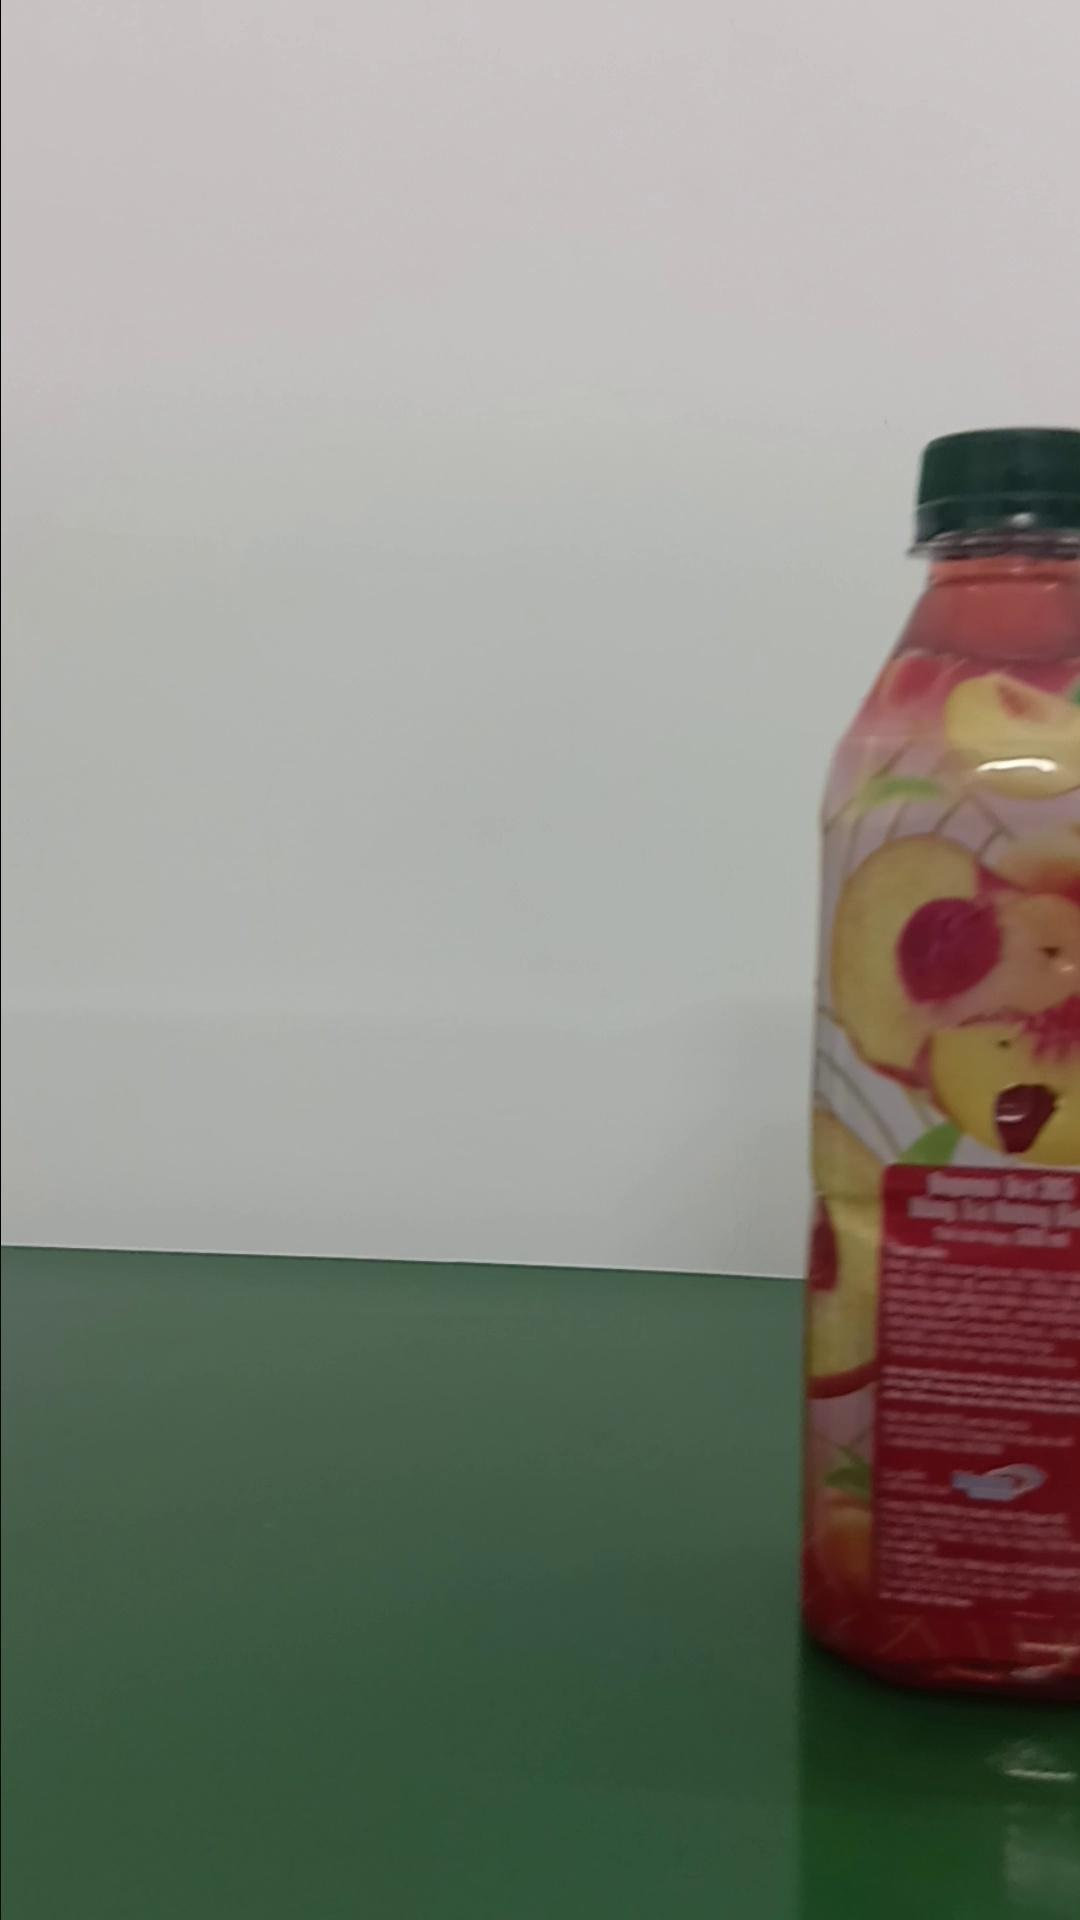loi rach va lap chai: (793, 418, 1077, 1698)
